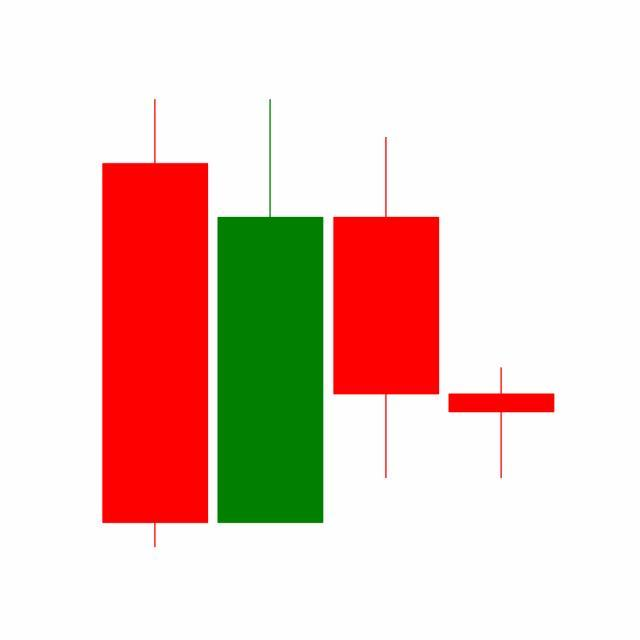Dragonfly Doji: (444, 367, 560, 481)
